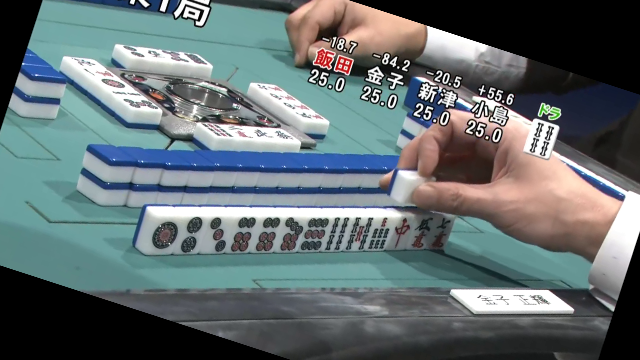Tehai: (135, 196, 465, 261)
